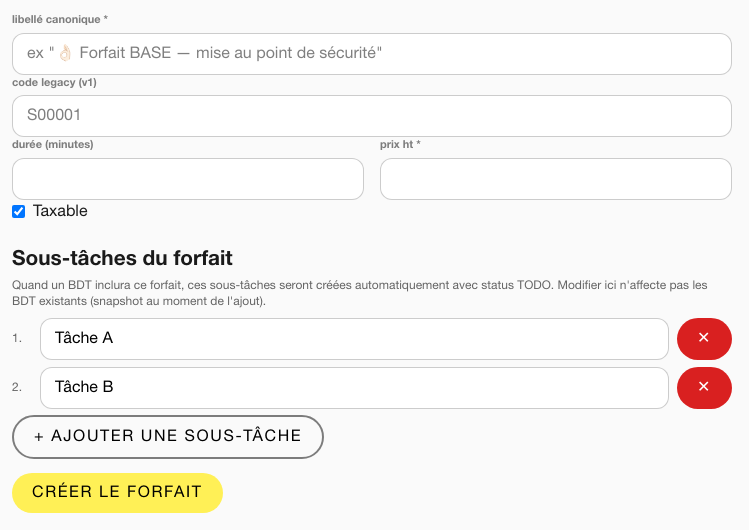
it: ForfaitForm › bouton ✕ → supprime la sous-tâche correspondante
Click the 1st button "✕". click: point(704, 339)
box: [677, 318, 732, 360]
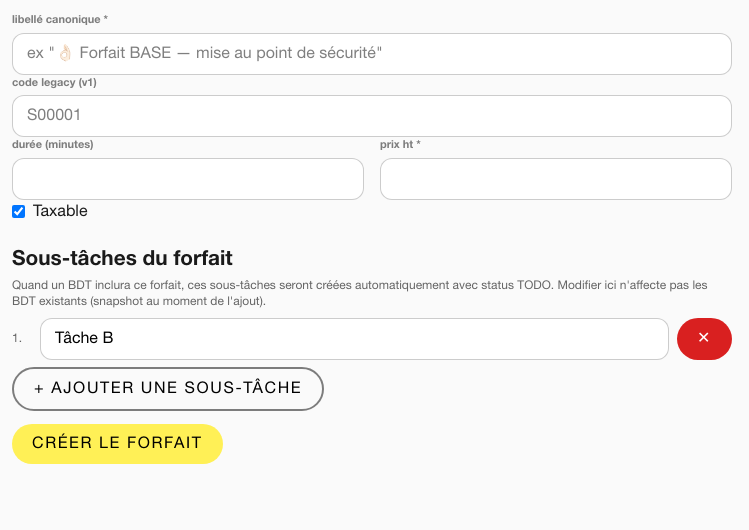
Check: the field showing "Tâche A" is not shown
Check: the field showing "Tâche B" is shown, box [40, 318, 669, 360]
